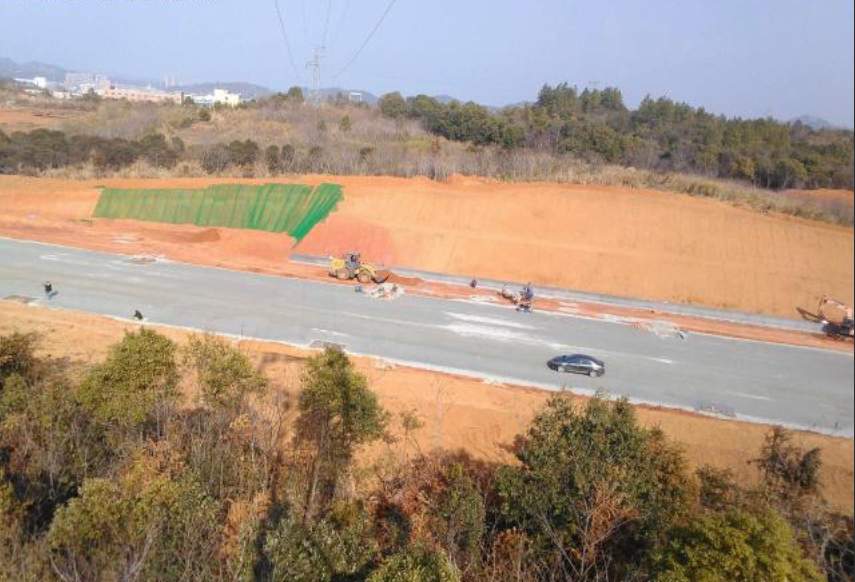绿膜: (90, 181, 345, 250), (66, 217, 92, 227)
